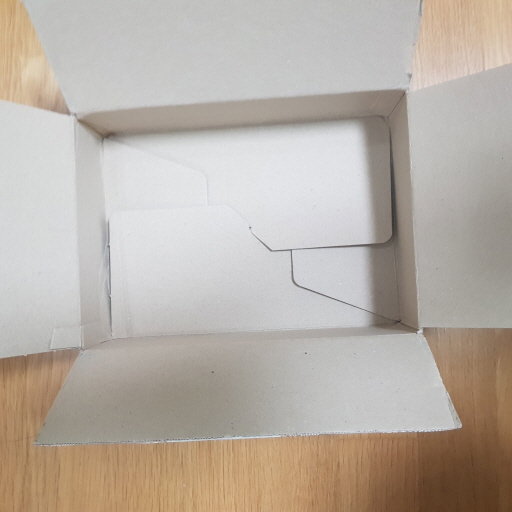Paper_0: (1, 1, 510, 446)
